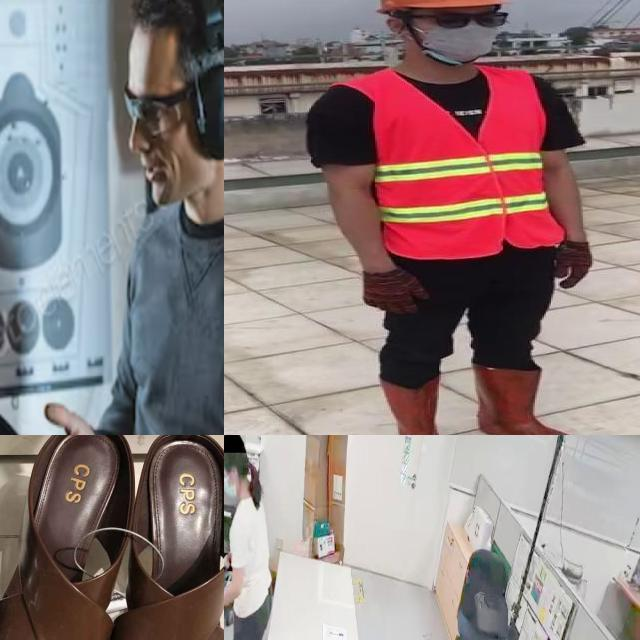Ear-protection: (126, 0, 224, 224)
No_Ear-Protection: (378, 9, 421, 50)
Sandals: (0, 435, 224, 640)
boots: (473, 362, 585, 435), (375, 377, 462, 435)
face_mask: (224, 472, 238, 504)
glasses: (382, 4, 520, 35), (125, 88, 187, 128)
hand_glove: (224, 553, 232, 580)
head_helmet: (360, 0, 508, 16)
head_nohelmet: (224, 435, 246, 453)
person: (292, 0, 607, 435), (112, 0, 224, 435), (224, 435, 287, 640)
vest: (375, 66, 562, 259)
